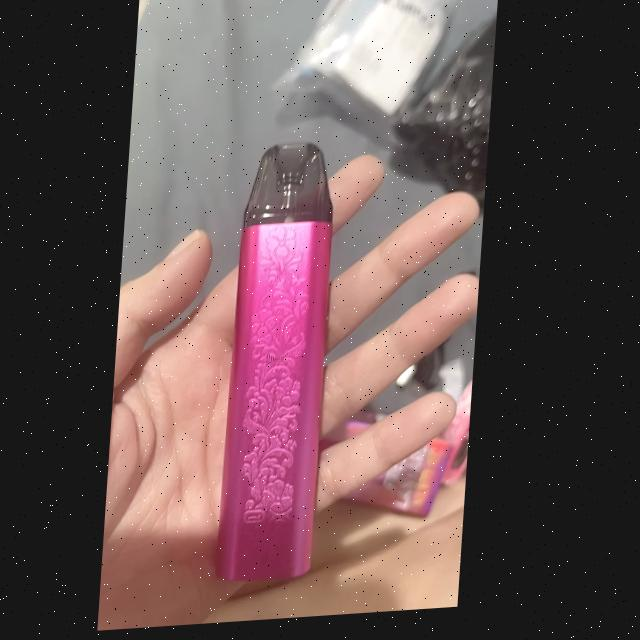vape: (219, 147, 343, 588)
